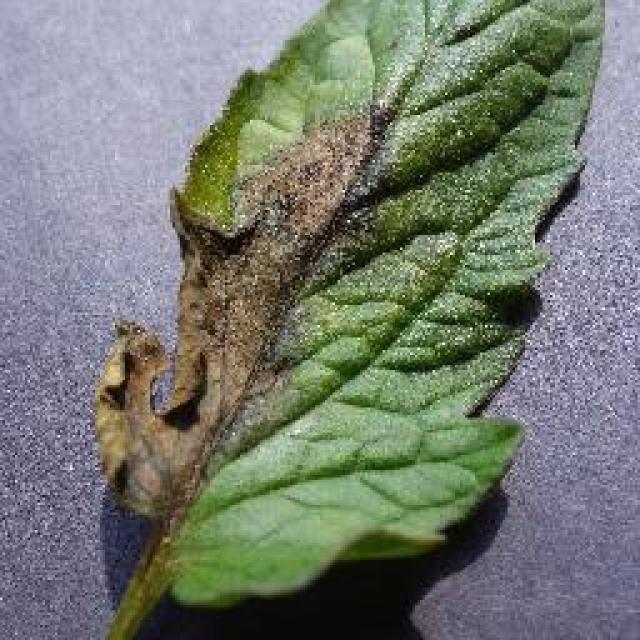Tomato Late Blight: (67, 135, 390, 495)
